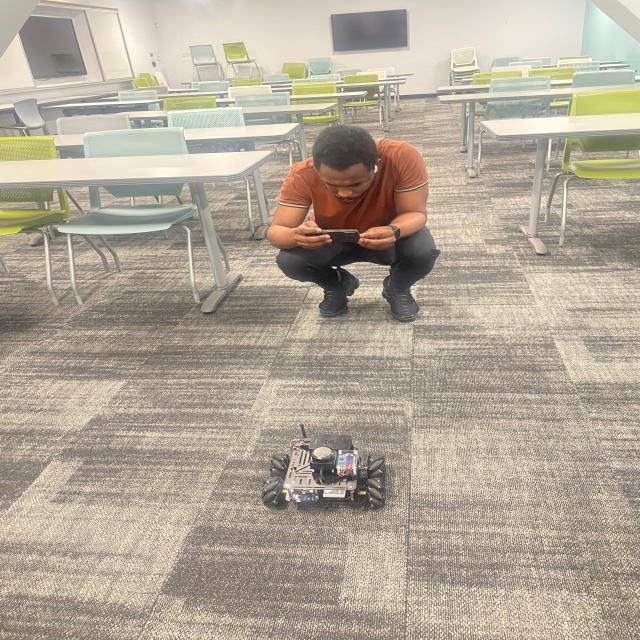ArduinoCar: (256, 424, 387, 514)
